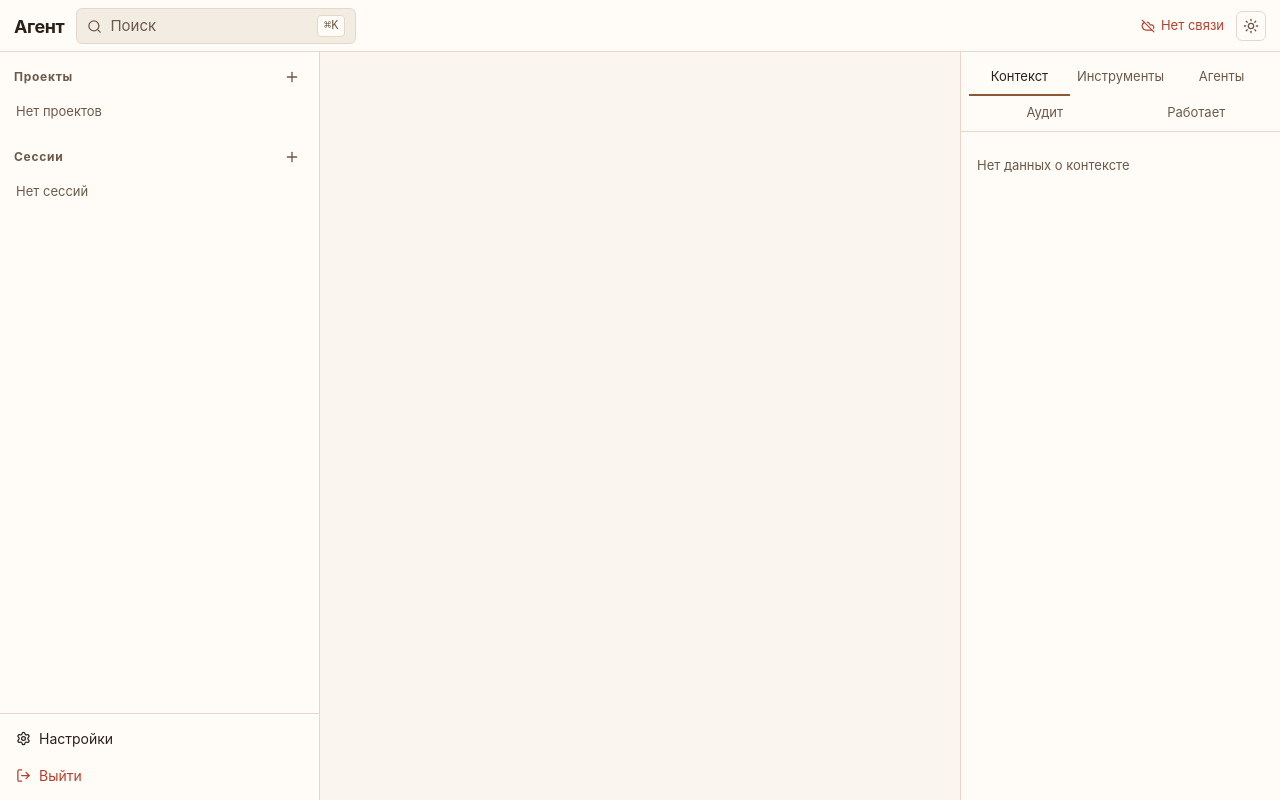
Test: App — project creation flow › keeps form, values, and shows error on failed creation
Click the button named "Новый проект". click: (292, 77)
box: [279, 64, 305, 90]
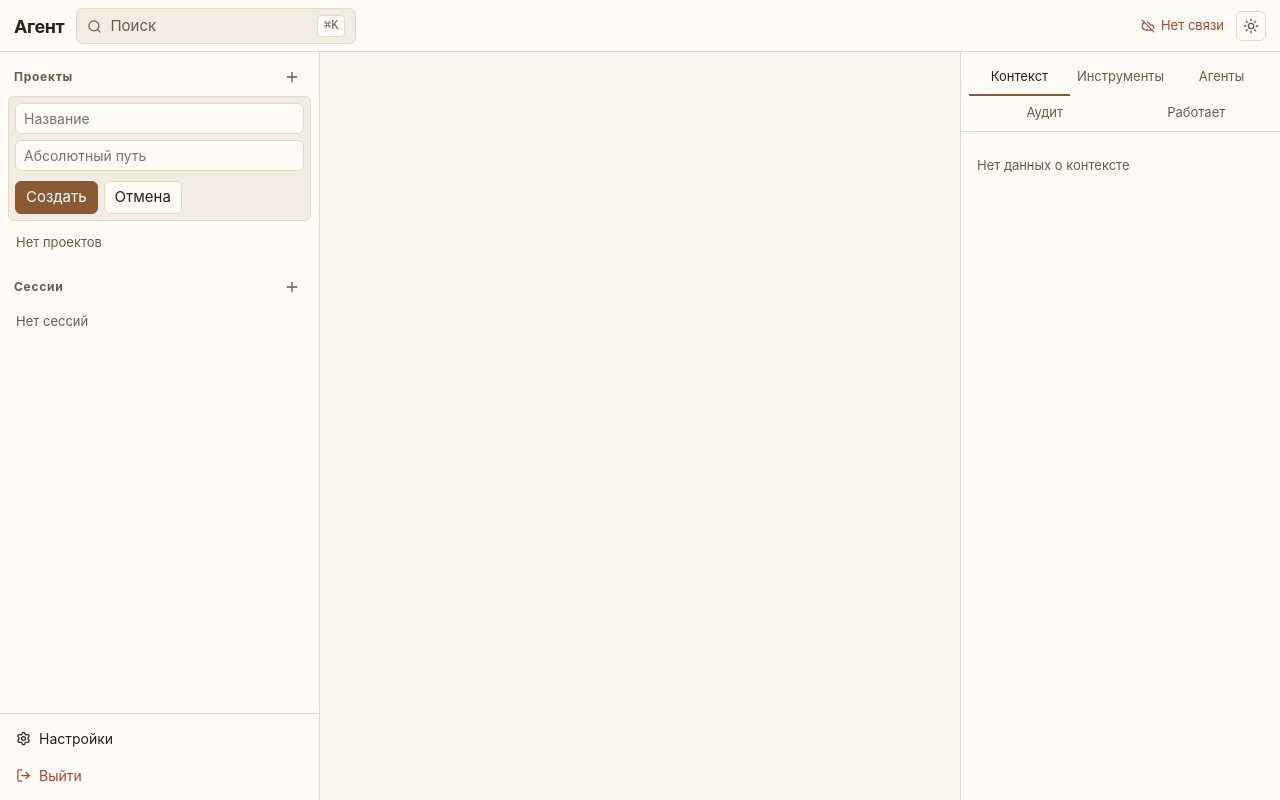
Type "Keep Me" into the field with placeholder "Название". click: (160, 118)
box: [15, 103, 304, 134]
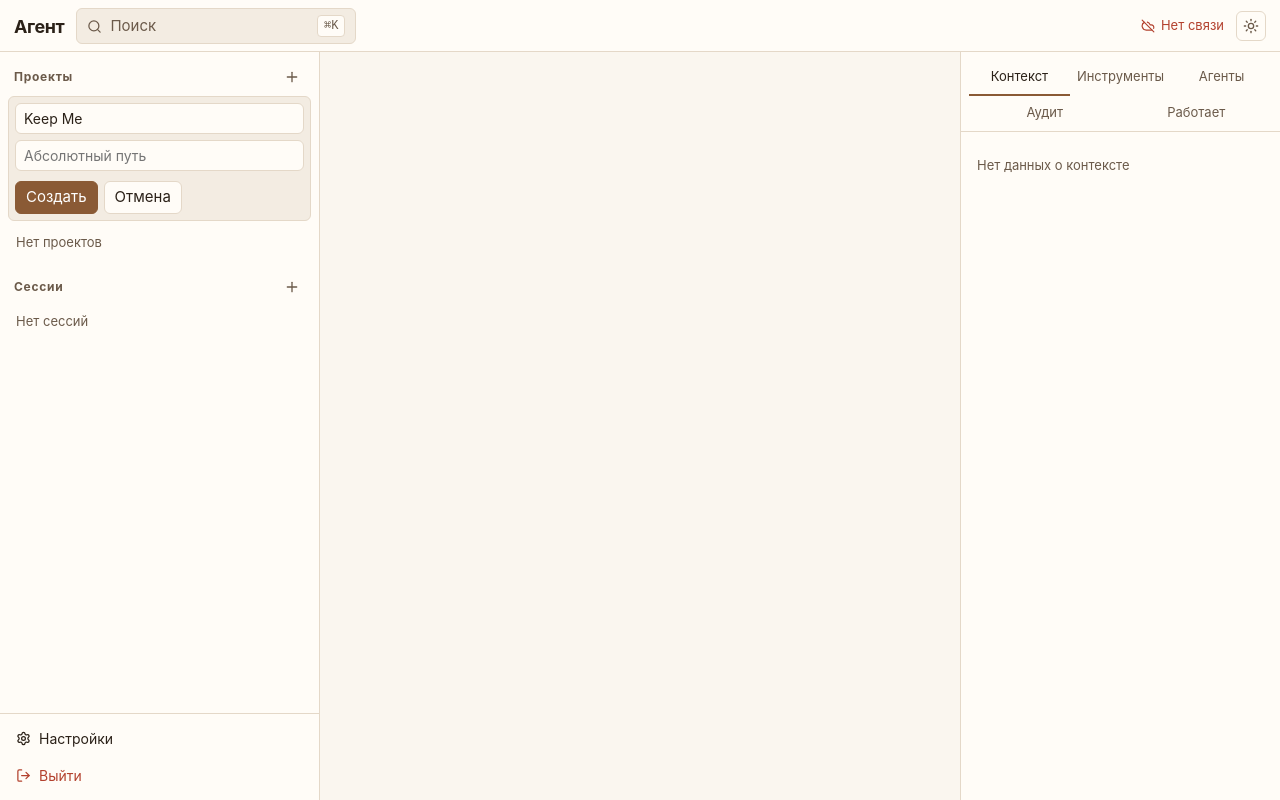
Type "/keep/this/path" into the field with placeholder "Абсолютный путь". click: (160, 156)
box: [15, 140, 304, 171]
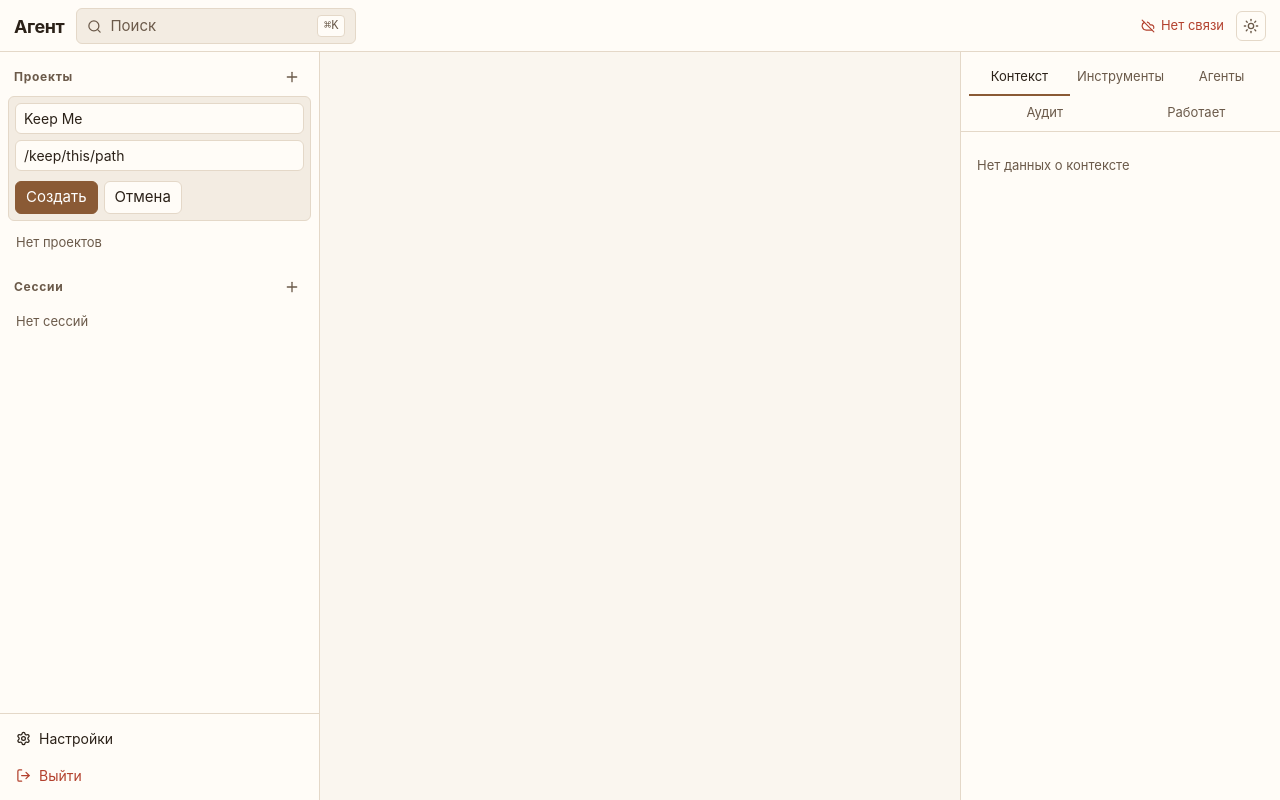
Submit the form, box [8, 96, 311, 220]
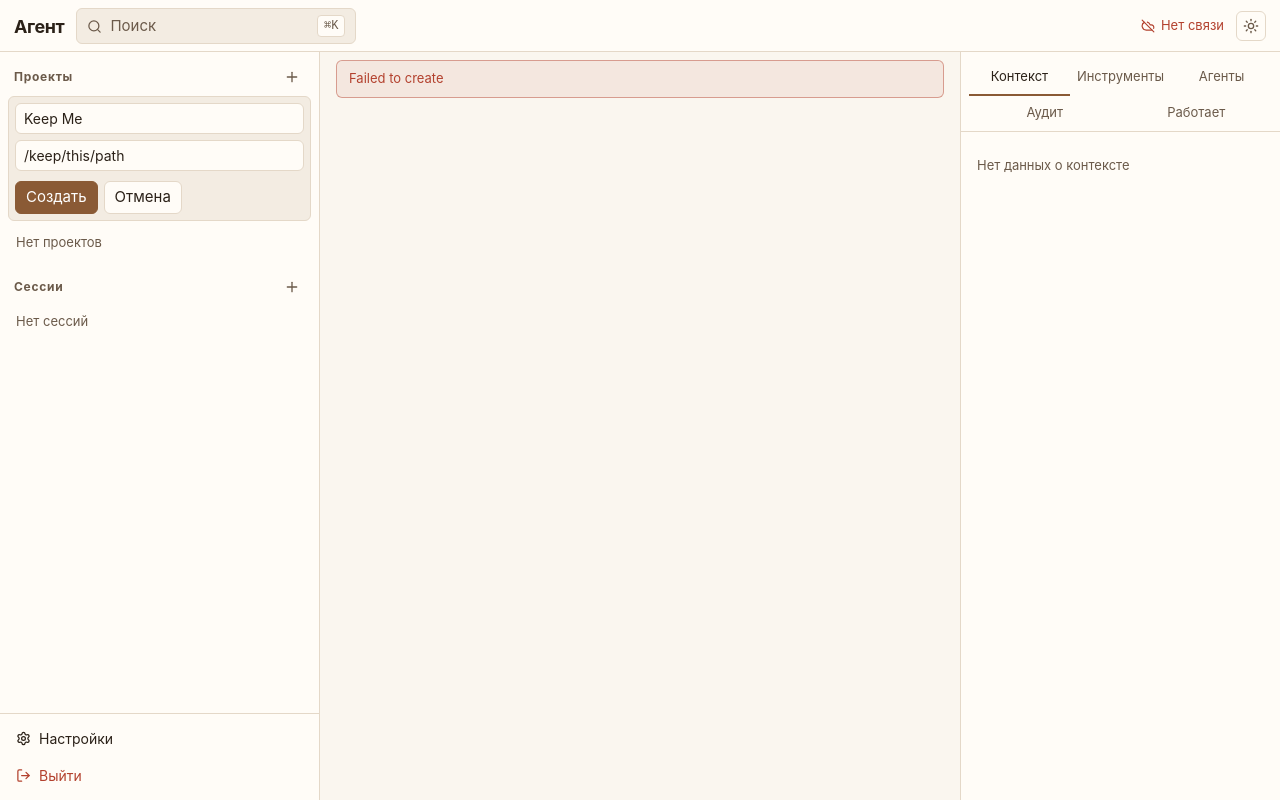
Expected: the form is shown, [8, 96, 311, 220]
Expected: the text "Failed to create" is shown, [336, 60, 944, 98]
Expected: the text with test id "project-error" reads "Failed to create", [349, 70, 444, 86]
